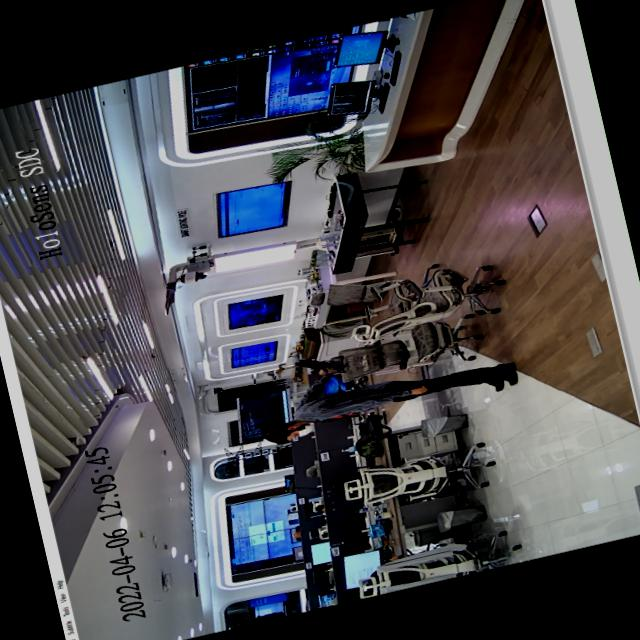long weapon: (283, 343, 359, 386)
